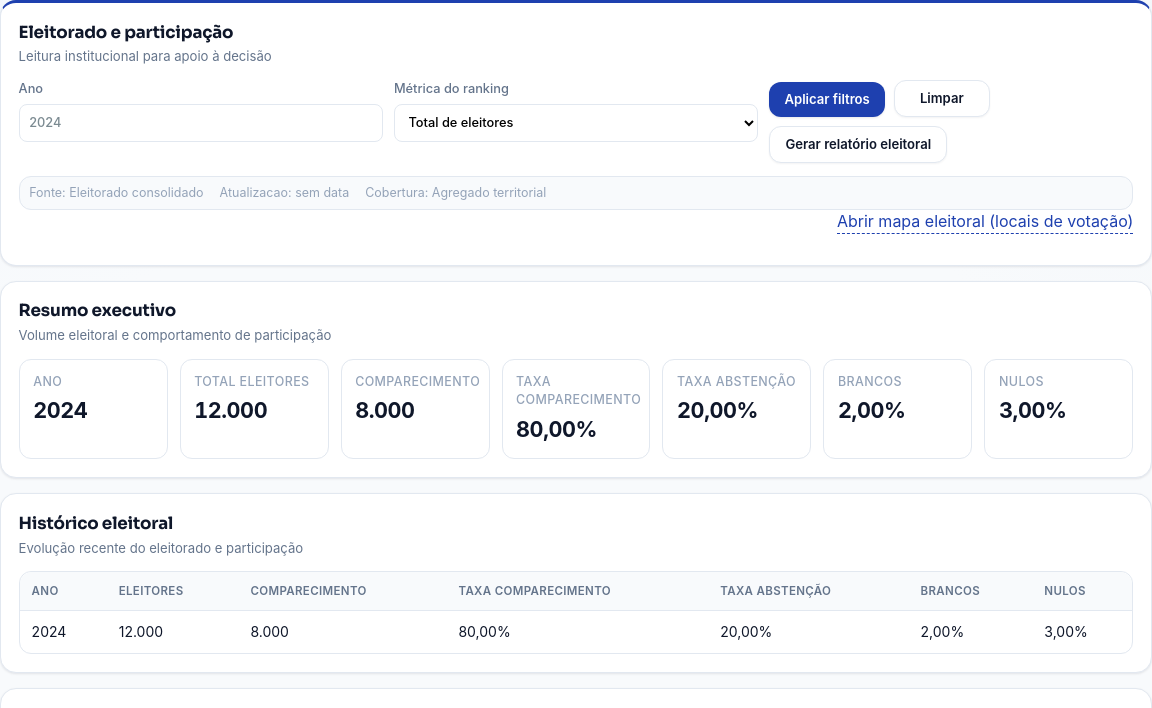
Scenario: ElectorateExecutivePage › shows fallback error when selected year has no data and fallback fails
Expected: the button "Aplicar filtros" is shown, [769,82,885,117]
Type "2022" into the field labelled "Ano". click: (201, 123)
box: [19,104,383,142]
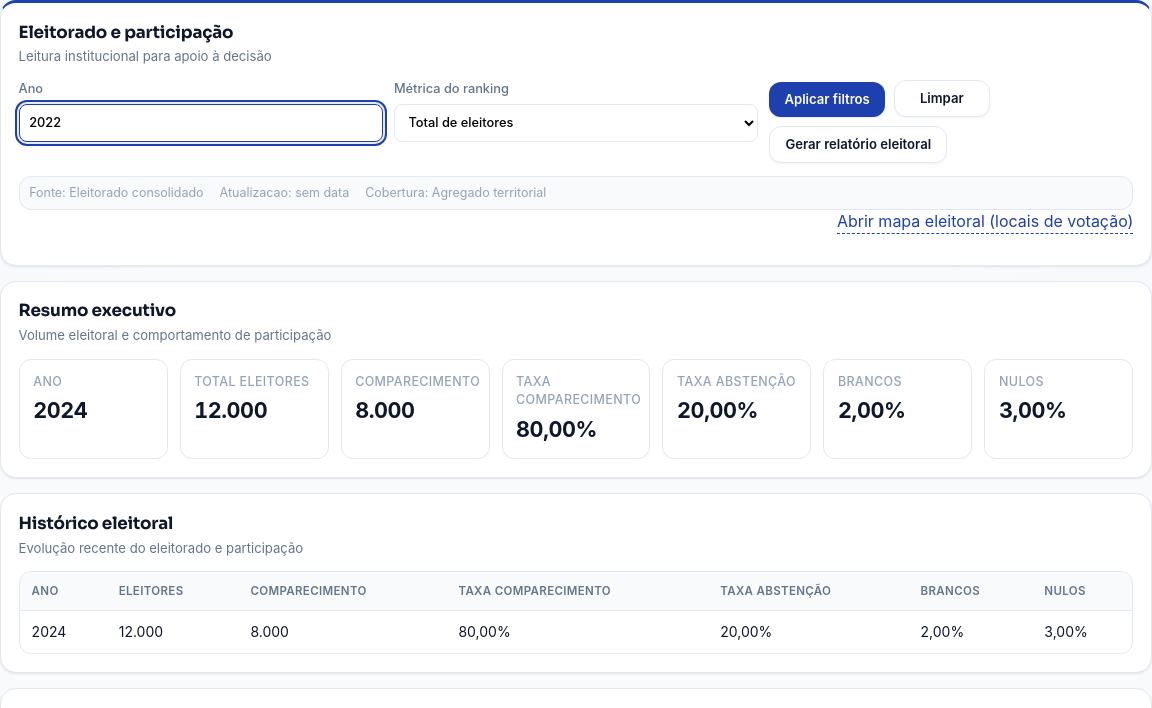
Click the button "Aplicar filtros". click: (827, 100)
box: [769,82,885,117]
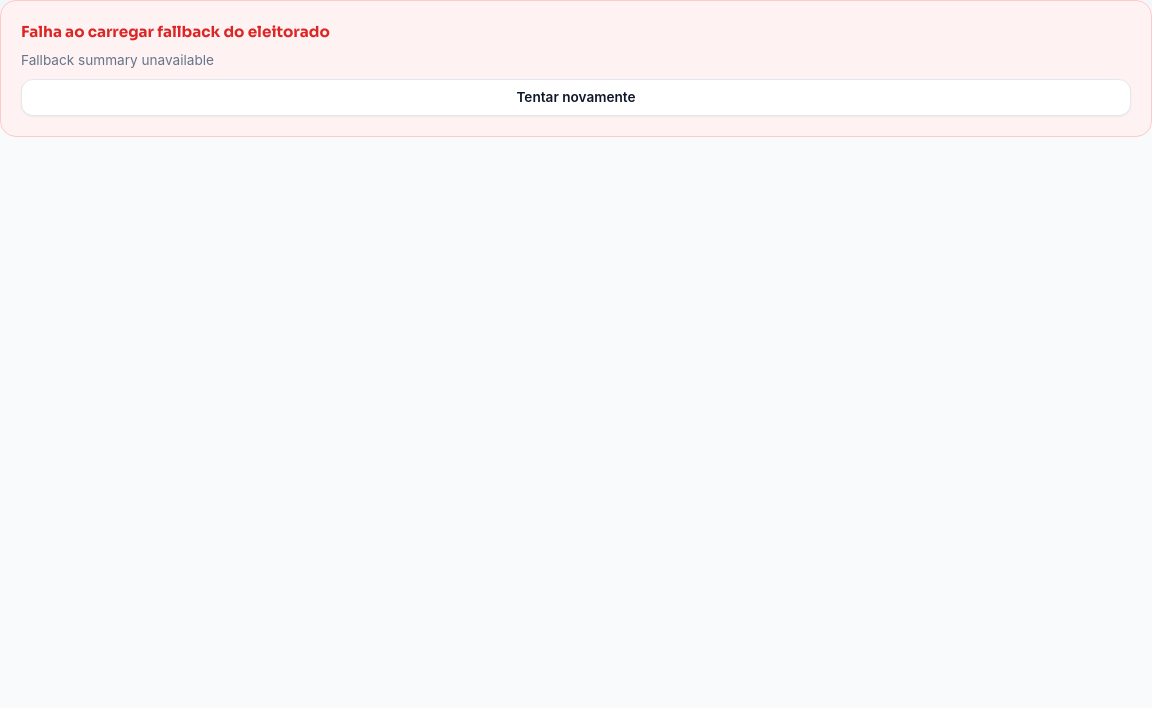
Now the heading "Falha ao carregar fallback do eleitorado" is shown, box [21,22,330,41]
